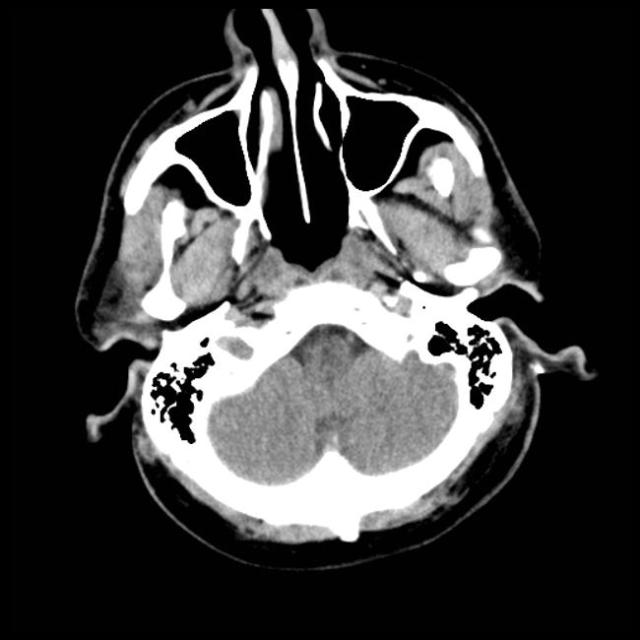lesion: (71, 8, 596, 568)
